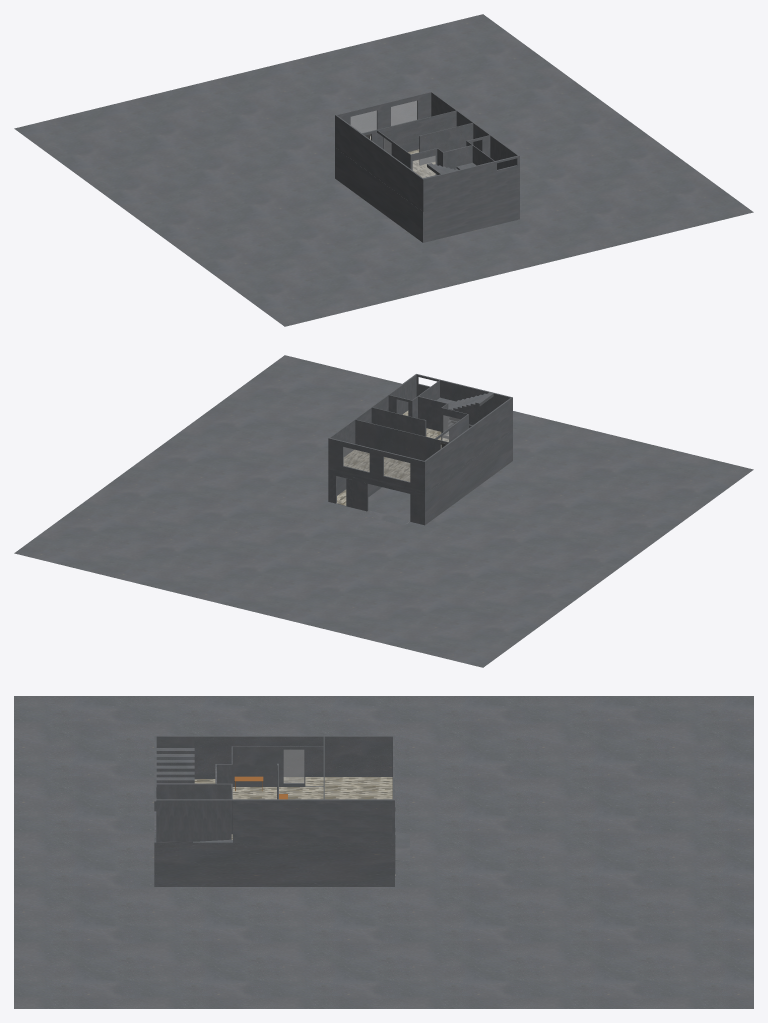
The model's file is Casa-transformed.glb.
The picture shows the model from 3 angles, top to bottom: view 1: azimuth 30°, elevation 25°; view 2: azimuth 150°, elevation 25°; view 3: azimuth 270°, elevation 25°; orthographic projection. The views are drawn at different scales.
Parts seen in each view (by area): view 1: Plane, Cubo.002; view 2: Plane, Cubo.002; view 3: Plane, Cubo.002.
Part boxes in pixels (box(x1,y1,x2,y2)): Plane: box(14, 14, 753, 326); Cubo.002: box(351, 101, 435, 177); Plane: box(14, 355, 753, 667); Cubo.002: box(336, 410, 459, 505); Plane: box(14, 696, 753, 1008); Cubo.002: box(194, 750, 395, 875).
Bounding box in the file's own units: 143 × 19.21 × 143.
10 materials, 8 textured.
